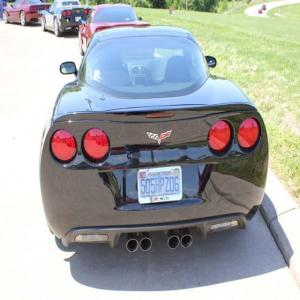Plate: (138, 166, 183, 204), (75, 17, 82, 22)
